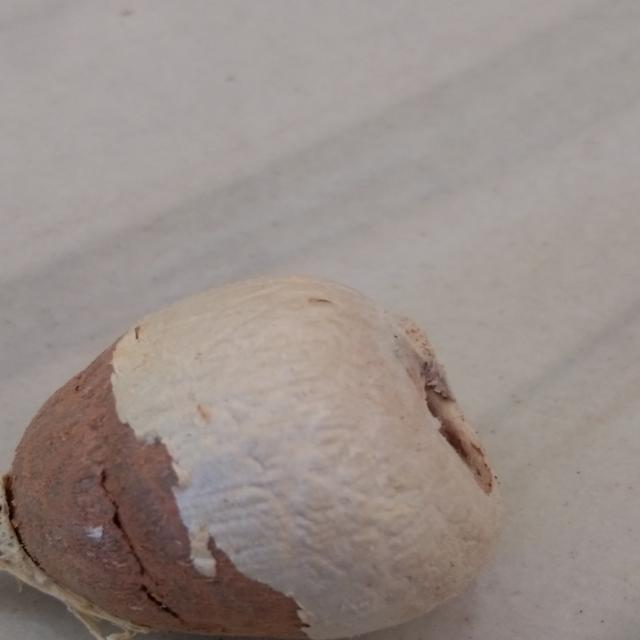phatora: (0, 278, 528, 640)
